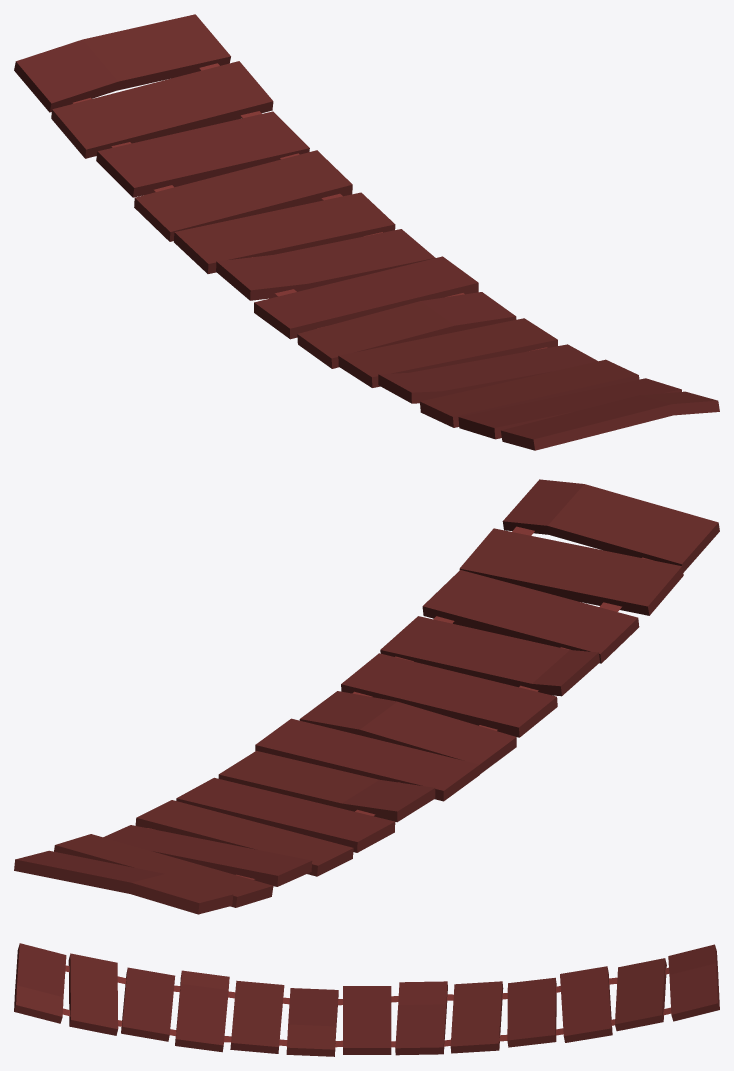
The model's file is Bridge_4_Red.fbx.
3 views of the same model, one above another, from view 1: azimuth 30°, elevation 25°; view 2: azimuth 150°, elevation 25°; view 3: azimuth 270°, elevation 25° (orthographic). The views are drawn at different scales.
Visible parts, largest first — view 1: Bridge_4_Red_Part_3, Bridge_4_Red_Part_1, Bridge_4_Red_Part_2; view 2: Bridge_4_Red_Part_1, Bridge_4_Red_Part_3, Bridge_4_Red_Part_2; view 3: Bridge_4_Red_Part_1, Bridge_4_Red_Part_3, Bridge_4_Red_Part_2, Bridge_4_Red_Part_4.
Part boxes in pixels (x1,y1,x2,y2): Bridge_4_Red_Part_3: (14,14,395,273); Bridge_4_Red_Part_1: (338,318,719,450); Bridge_4_Red_Part_2: (216,229,516,368); Bridge_4_Red_Part_1: (341,479,719,737); Bridge_4_Red_Part_3: (14,777,395,914); Bridge_4_Red_Part_2: (218,691,516,822); Bridge_4_Red_Part_1: (14,943,284,1053); Bridge_4_Red_Part_3: (450,944,719,1053); Bridge_4_Red_Part_2: (286,981,447,1056); Bridge_4_Red_Part_4: (62,965,671,1047).
Bounding box in the file's own units: 188 × 79.21 × 906.
